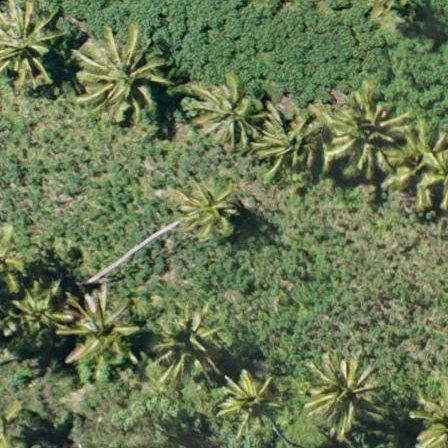palm_tree: (75, 30, 159, 116), (325, 93, 399, 166), (60, 290, 132, 365), (305, 358, 381, 429), (1, 1, 65, 79), (196, 81, 259, 145), (152, 311, 213, 376), (177, 182, 243, 241), (5, 283, 62, 344), (220, 373, 278, 430)
